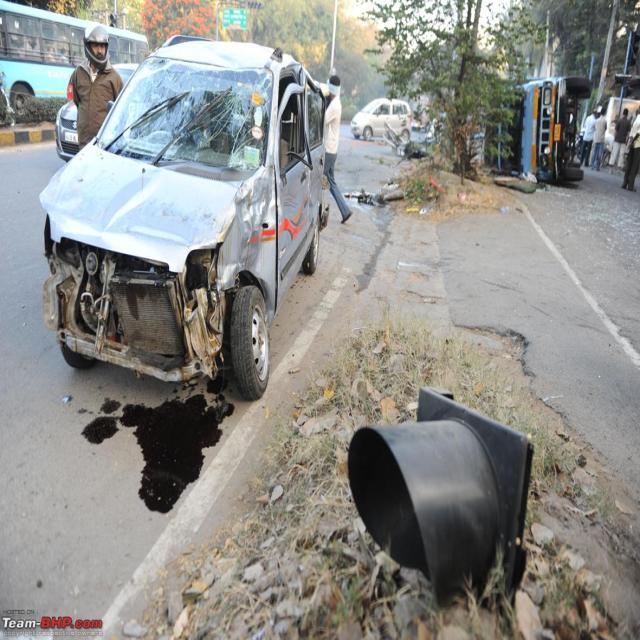accident: (41, 41, 328, 398), (485, 75, 591, 182)
bus: (0, 0, 149, 125)
car: (350, 98, 412, 140)
